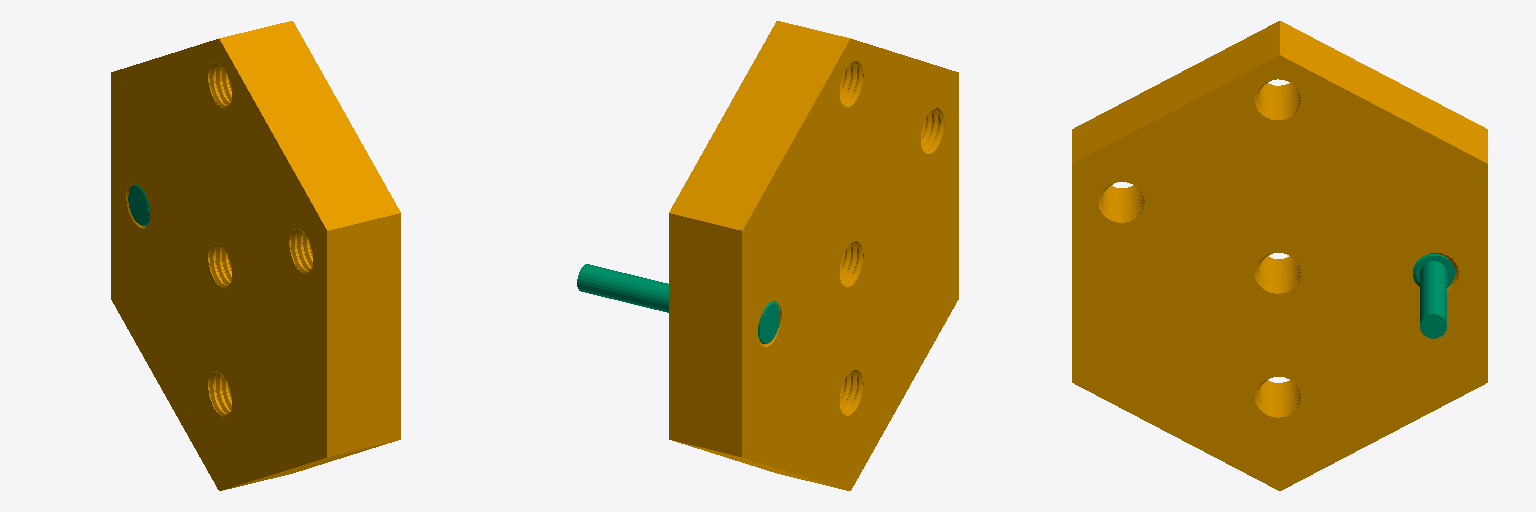
URDF robot description (Peg_insertion_5):
<?xml version="1.0"?>
<!--
  Peg insertion (Hole 5): five-hole plate + one threaded peg in hole 5 on a
  continuous revolute and a prismatic joint along the hole axis.
  Turns the plate normal to +X like the other mechanisms.
  PrismaticJoint = 0 seats the peg (its end flush with the plate back).
-->
<robot name="Peg_insertion_5">
  <link name="World">
    <inertial><origin xyz="0.0075 0 0" rpy="0 0 0" /><mass value="0.1008" /><inertia ixx="0.000114125" ixy="0" ixz="0" iyy="6.7105e-05" iyz="0" izz="5.08014e-05" /></inertial>
    <visual>
      <origin xyz="0 0 0" rpy="0 1.5707963 0" />
      <geometry><mesh filename="meshes/Base_principal_Corpo1.obj" scale="1 1 1" /></geometry>
    </visual>
    <collision>
      <origin xyz="0.0075 0 0" rpy="0 0 0" />
      <geometry><box size="0.015 0.076 0.076" /></geometry>
    </collision>
  </link>
  <link name="rot_pivot">
    <inertial><origin xyz="0 0 0" rpy="0 0 0" /><mass value="0.005" /><inertia ixx="1e-06" ixy="0" ixz="0" iyy="1e-06" iyz="0" izz="1e-06" /></inertial>
  </link>
  <link name="peg">
    <!-- CAD mass is ~2 g; 20 g keeps the grasp contacts stable. -->
    <inertial><origin xyz="0 0 0.019" rpy="0 0 0" /><mass value="0.02" /><inertia ixx="1e-06" ixy="0" ixz="0" iyy="1e-06" iyz="0" izz="1e-06" /></inertial>
    <visual>
      <origin xyz="0 0 0" rpy="0 0 0" />
      <geometry><mesh filename="meshes/Al__a_Corpo1.obj" scale="1 1 1" /></geometry>
    </visual>
    <collision>
      <origin xyz="0 0 0" rpy="0 0 0" />
      <geometry><mesh filename="meshes/Al__a_Corpo1.obj" scale="1 1 1" /></geometry>
    </collision>
  </link>
  <!-- Child frames have +Z along the hole, which is World +X. -->
  <joint name="RevoluteJoint" type="continuous">
    <origin xyz="0 0.028087 0" rpy="0 1.5707963 0" />
    <parent link="World" />
    <child link="rot_pivot" />
    <axis xyz="0 0 1" />
  </joint>
  <joint name="PrismaticJoint" type="prismatic">
    <origin xyz="0 0 0" rpy="0 0 0" />
    <parent link="rot_pivot" />
    <child link="peg" />
    <axis xyz="0 0 1" />
    <limit lower="0.0" upper="0.020" effort="100.0" velocity="1.0" />
  </joint>
</robot>

--- Render facts (derived) ---
3 views of the same robot in one strip: view 1: azimuth 30°, elevation 25°; view 2: azimuth 150°, elevation 25°; view 3: azimuth 270°, elevation 25° (orthographic).
Model Peg_insertion_5 with 3 links and 2 joints (1 continuous, 1 prismatic), rooted at World, posed every joint at zero.
Visible links, largest first — view 1: World, peg; view 2: World, peg; view 3: World, peg.
Link boxes in pixels (bbox=[...]): World: bbox=[111, 21, 400, 490]; peg: bbox=[128, 184, 149, 226]; World: bbox=[669, 21, 958, 490]; peg: bbox=[577, 264, 779, 343]; World: bbox=[1072, 21, 1487, 490]; peg: bbox=[1413, 254, 1454, 338].
Bounding box of the posed robot: 0.038 × 0.0763 × 0.0881 m (x, y, z).
2 mesh visuals loaded from 2 distinct referenced files (2 OBJ).
